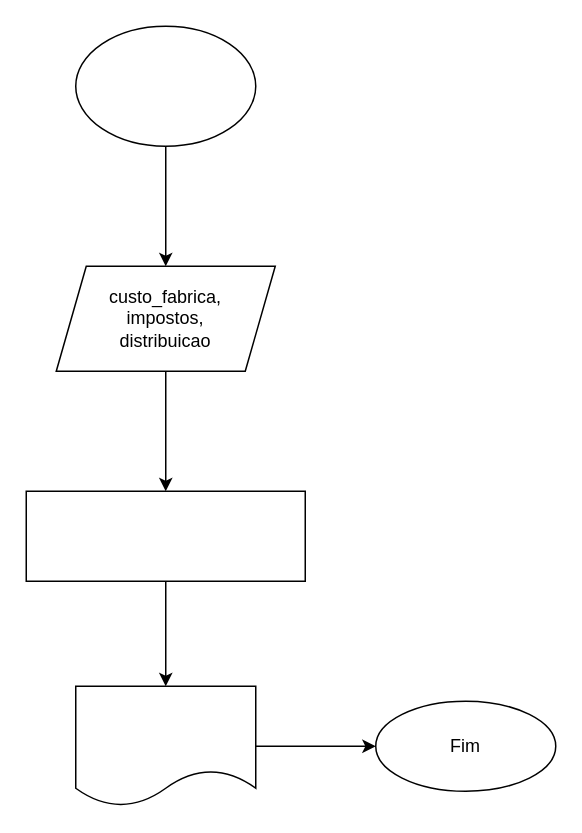
Image size: 582x833. Some labels were removed from this diagram. Each missing label, with the centre of its shape:
"(custo*impostos)=total_impostos total_impostos*distribuicao=total" goes at pixel 165 535.
"Início" goes at pixel 165 85.
